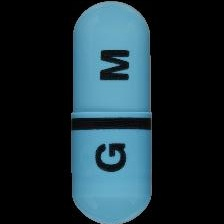65649-103: (0, 0, 224, 224)
